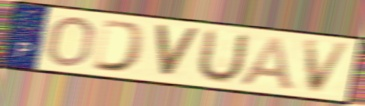A: (237, 35, 297, 93)
D: (90, 18, 148, 75)
O: (44, 14, 98, 69)
U: (193, 27, 252, 85)
V: (152, 22, 202, 80), (303, 39, 354, 95)
